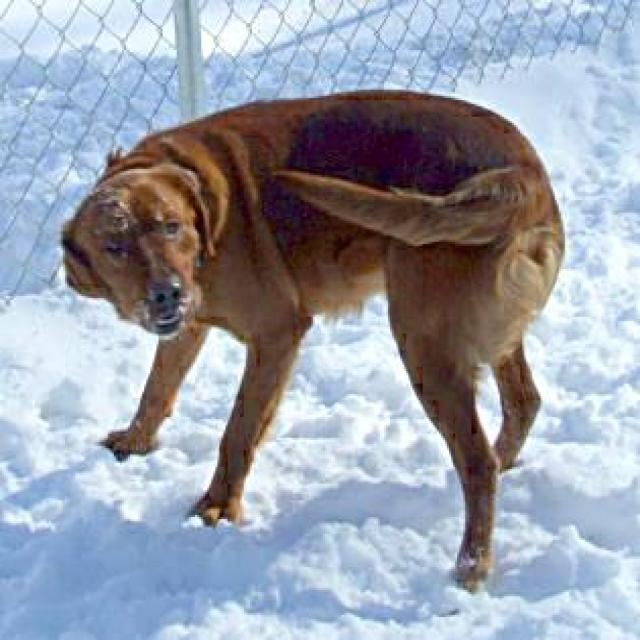Dogs: (57, 86, 565, 592)
